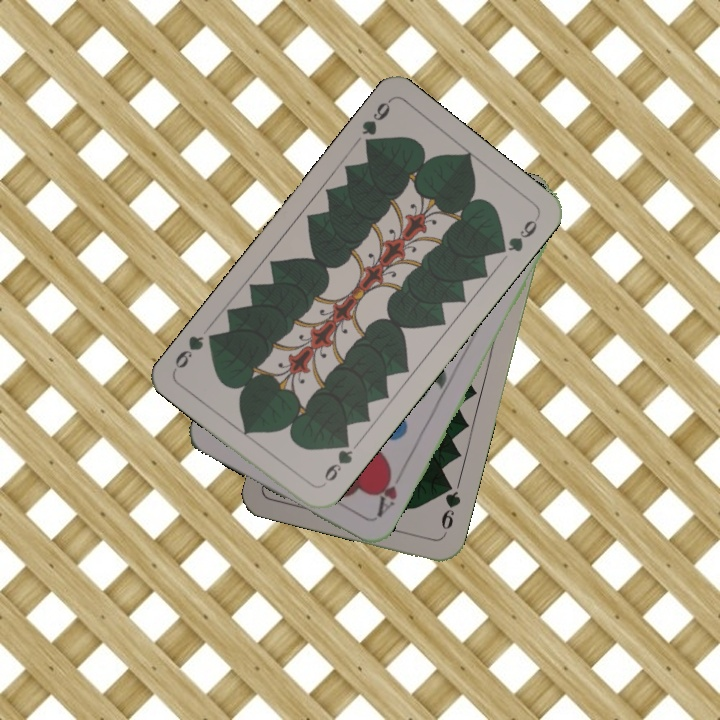G9: (316, 435, 356, 490), (357, 96, 393, 153), (437, 477, 464, 538)
HA: (372, 464, 406, 520)
